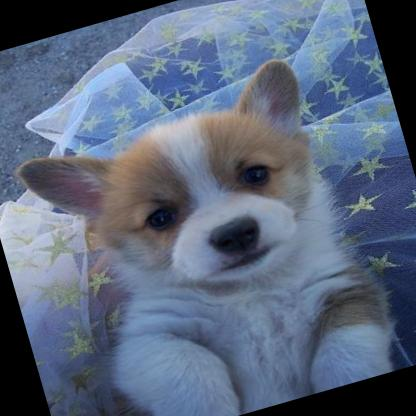Pembroke: (4, 45, 402, 416)
